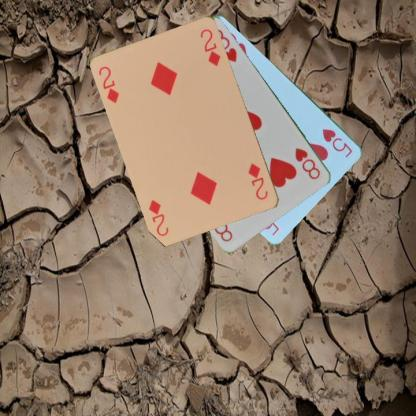2d: (245, 160, 270, 202), (96, 64, 122, 104)
5h: (319, 126, 354, 159)
8h: (292, 145, 322, 181)
